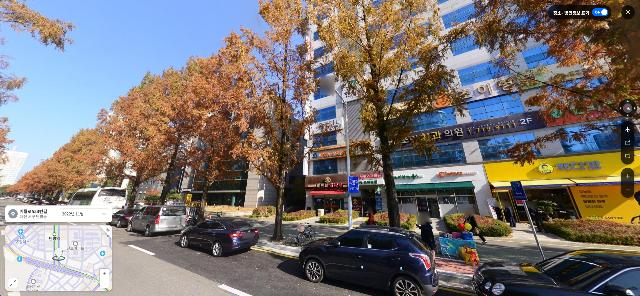other: (454, 0, 640, 186), (309, 0, 452, 227), (220, 0, 323, 241), (177, 48, 259, 226), (127, 63, 215, 207), (5, 95, 95, 207), (93, 84, 166, 210)
